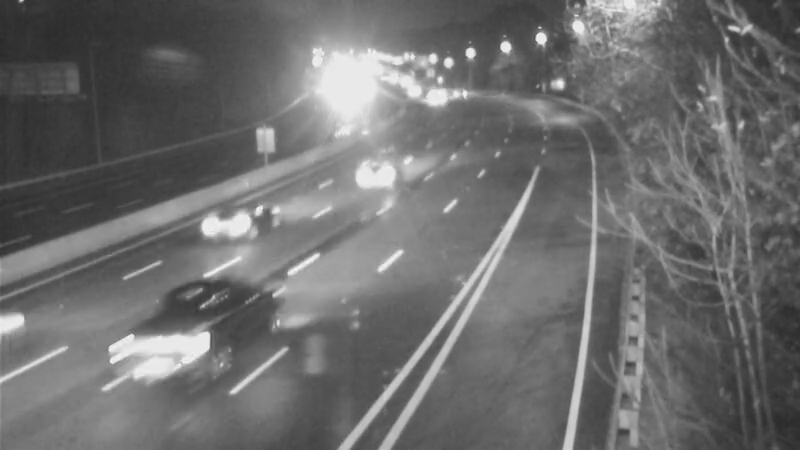vehicle: (111, 296, 221, 406), (343, 126, 423, 206), (203, 186, 283, 266)
